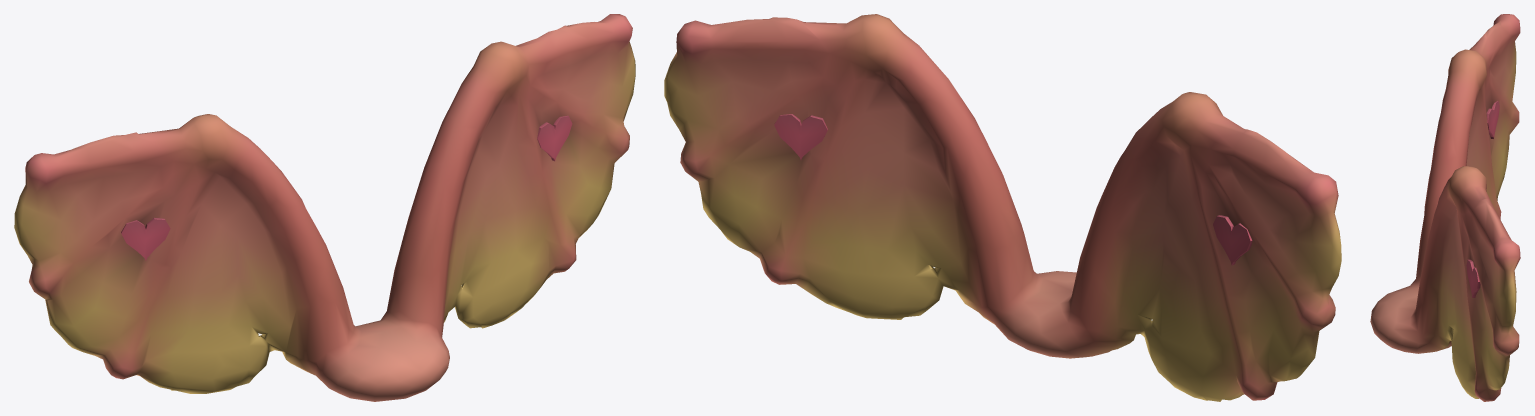
File: fire-back.glb
The picture shows the model from 3 angles, left to right: view 1: azimuth 30°, elevation 25°; view 2: azimuth 150°, elevation 25°; view 3: azimuth 270°, elevation 25°; orthographic projection. The views are drawn at different scales.
Visible parts, largest first — view 1: fire-back; view 2: fire-back; view 3: fire-back.
Boxes of the visible parts, x1,y1,x2,y2 form: fire-back: (14,14,635,401); fire-back: (664,14,1341,401); fire-back: (1370,14,1520,401).
Bounding box in the file's own units: 0.5986 × 0.2667 × 0.1548.
